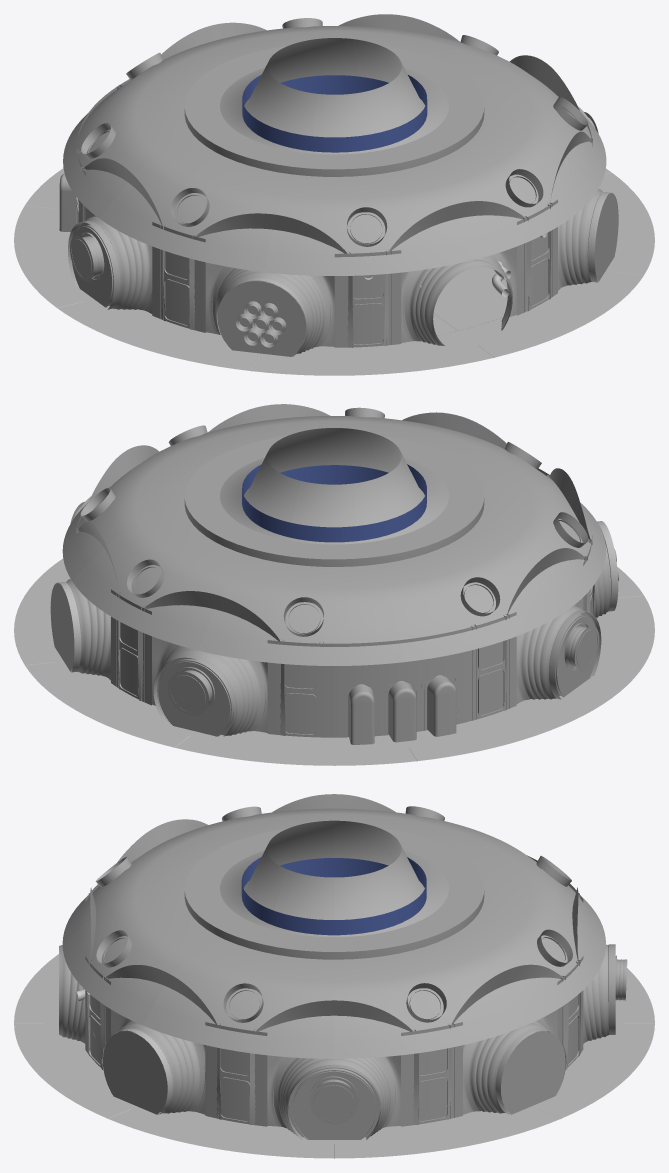
The model's file is 3dFloor.fbx.
3 renders of one model, top to bottom at view 1: azimuth 30°, elevation 25°; view 2: azimuth 150°, elevation 25°; view 3: azimuth 270°, elevation 25°, orthographic.
Visible parts, largest first — view 1: WallPart, Floor, RoofWindowParts012, RoofWindowParts011, RoofWindowParts013, CellingPart, SoftPanel1, RoofWindowParts010, All, WindowPart, RoofWindowParts014, RoofWindowParts009 (+6 smaller); view 2: WindowPart, RoofWindowParts009, RoofWindowParts010, Floor, RoofWindowParts008, CellingPart, SoftPanel1, RoofWindowParts011, WallPart, All, RoofWindowParts007, WallRecess (+6 smaller); view 3: WallPart, RoofWindowParts014, RoofWindowParts007, WindowPart, Floor, CellingPart, RoofWindowParts008, RoofWindowParts013, SoftPanel1, All, RoofWindowParts009, RoofWindowParts012 (+4 smaller).
Part boxes in pixels (left/top/right/bottom): WallPart: left=189, top=14, right=618, bottom=356; Floor: left=14, top=168, right=654, bottom=375; RoofWindowParts012: left=264, top=91, right=470, bottom=275; RoofWindowParts011: left=99, top=80, right=317, bottom=271; RoofWindowParts013: left=368, top=74, right=596, bottom=260; CellingPart: left=184, top=46, right=484, bottom=176; SoftPanel1: left=76, top=79, right=592, bottom=347; RoofWindowParts010: left=63, top=63, right=276, bottom=218; All: left=43, top=188, right=625, bottom=361; WindowPart: left=68, top=22, right=598, bottom=320; RoofWindowParts014: left=393, top=52, right=606, bottom=190; RoofWindowParts009: left=73, top=38, right=300, bottom=130; WindowPart: left=70, top=445, right=601, bottom=736; RoofWindowParts009: left=198, top=481, right=404, bottom=665; RoofWindowParts010: left=352, top=470, right=569, bottom=661; Floor: left=14, top=558, right=654, bottom=765; RoofWindowParts008: left=72, top=464, right=300, bottom=650; CellingPart: left=184, top=436, right=484, bottom=566; SoftPanel1: left=76, top=468, right=592, bottom=737; RoofWindowParts011: left=392, top=452, right=605, bottom=608; WallPart: left=50, top=404, right=618, bottom=689; All: left=43, top=578, right=625, bottom=751; RoofWindowParts007: left=62, top=442, right=275, bottom=580; WallRecess: left=334, top=629, right=463, bottom=737; WallPart: left=59, top=819, right=568, bottom=1119; RoofWindowParts014: left=142, top=869, right=334, bottom=1058; RoofWindowParts007: left=334, top=869, right=525, bottom=1058; WindowPart: left=249, top=794, right=627, bottom=1139; Floor: left=14, top=954, right=654, bottom=1158; CellingPart: left=184, top=828, right=484, bottom=959; RoofWindowParts008: left=382, top=849, right=605, bottom=1024; RoofWindowParts013: left=62, top=849, right=286, bottom=1024; SoftPanel1: left=85, top=883, right=583, bottom=1126; All: left=43, top=982, right=625, bottom=1144; RoofWindowParts009: left=382, top=829, right=605, bottom=943; RoofWindowParts012: left=62, top=829, right=286, bottom=943.
Size of the model in its own units: 2534 by 873 by 2534.
